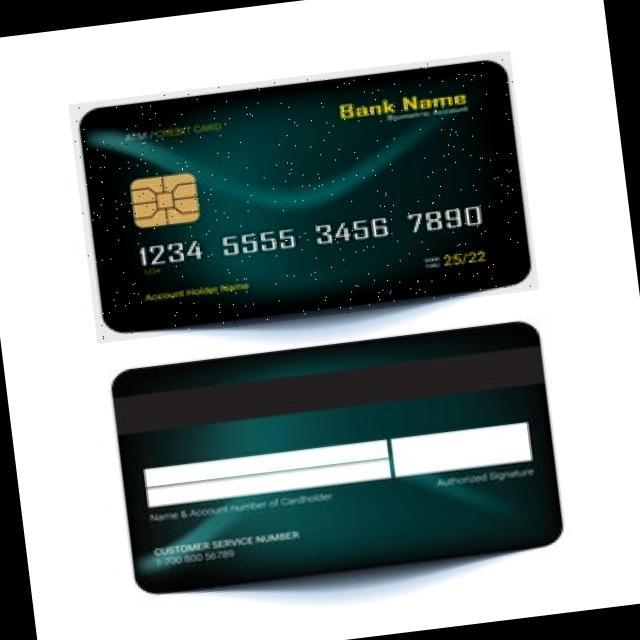payment_card: (68, 50, 534, 338), (110, 320, 563, 593)
